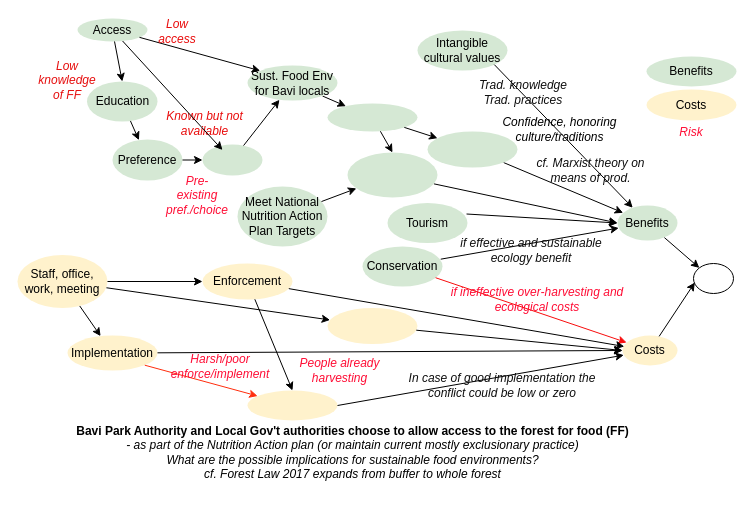
This 753x505 diagram has some shape labels left out. The centre of each missing label's shape, as x and y in pixels:
"Choice" goes at point (232, 159).
"Conflict btw. park and locals" goes at point (292, 405).
"Health Savings (govt)" goes at point (392, 174).
"Monitoring" goes at point (372, 326).
"NPV" goes at point (713, 278).
"Quality life years" goes at point (472, 149).
"Sust. Diets" goes at point (372, 117).
